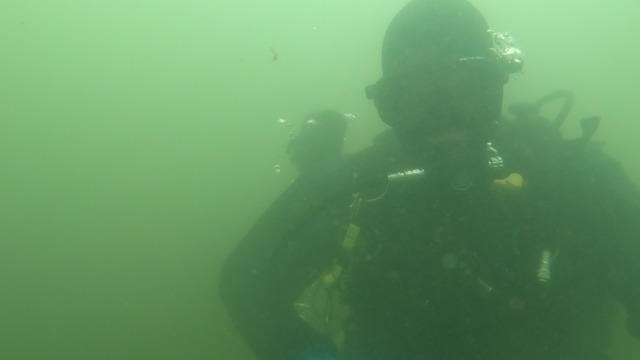Diver: (185, 3, 632, 352)
Head: (376, 5, 523, 200)
